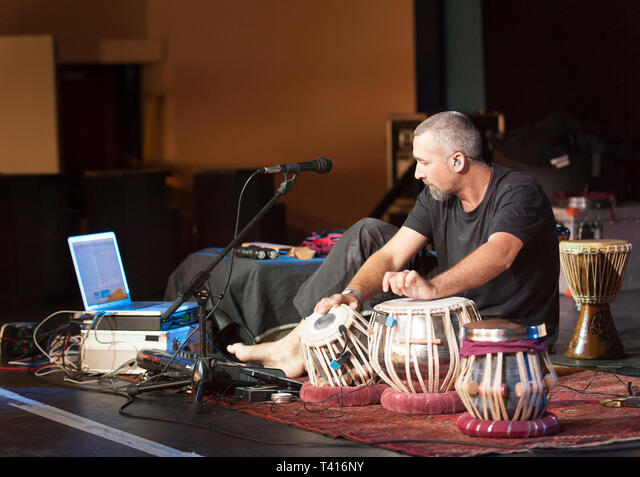tabla: (371, 298, 476, 406), (465, 320, 555, 424), (295, 305, 369, 386)
